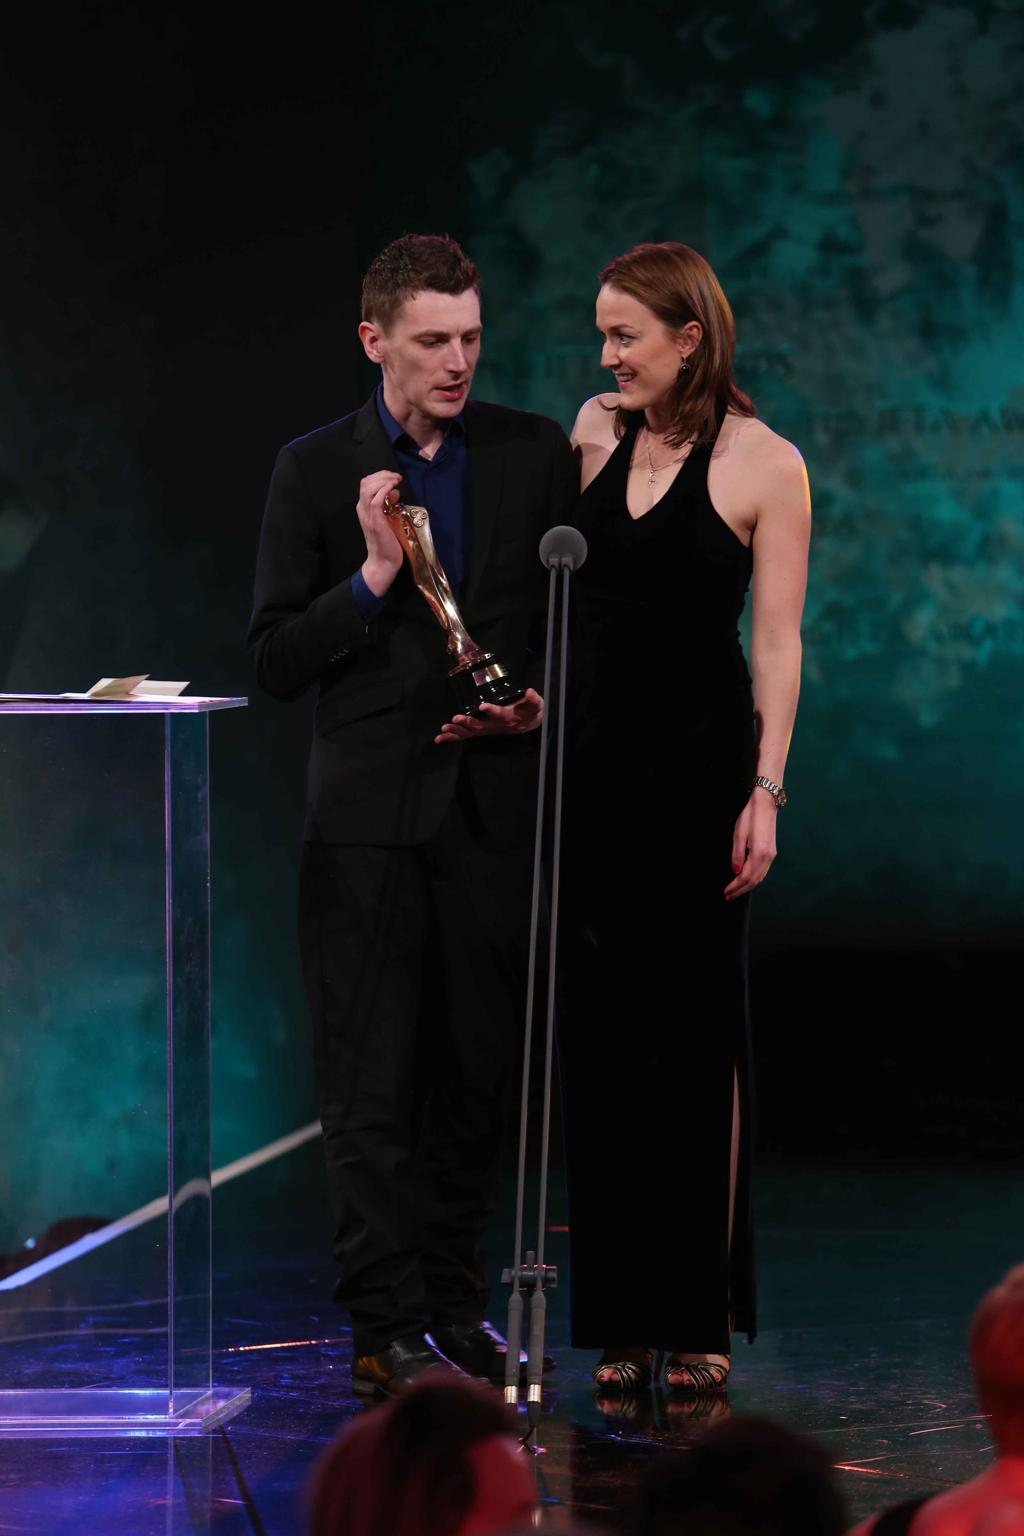face: (387, 264, 483, 420), (592, 279, 682, 411)
